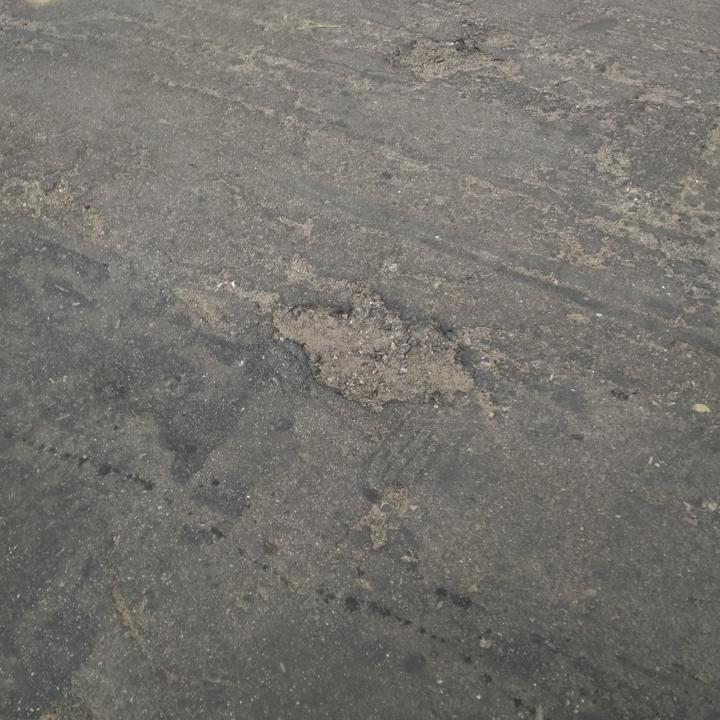pothole: (264, 289, 480, 416), (388, 37, 498, 84)
